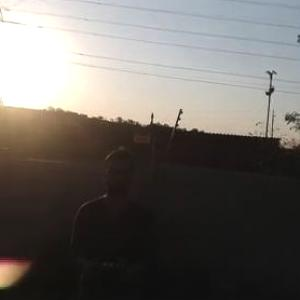follow: (58, 142, 158, 299)
